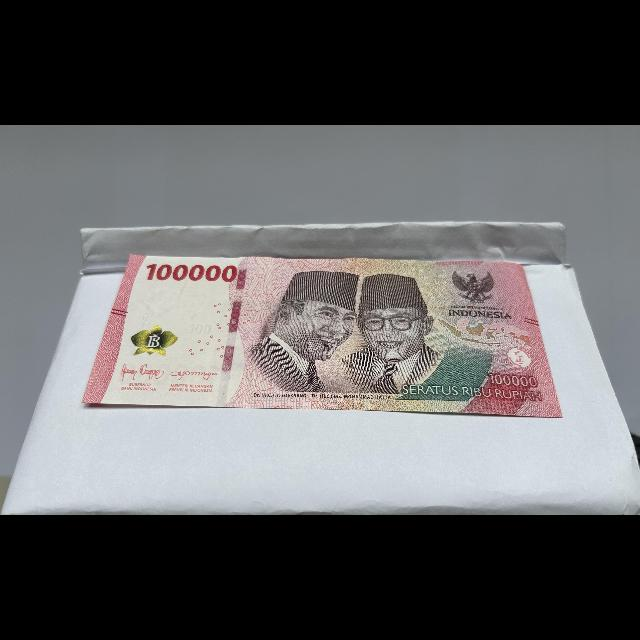Asli-100k: (78, 251, 570, 420)
Tinta-Asli-100k: (124, 322, 183, 359)
